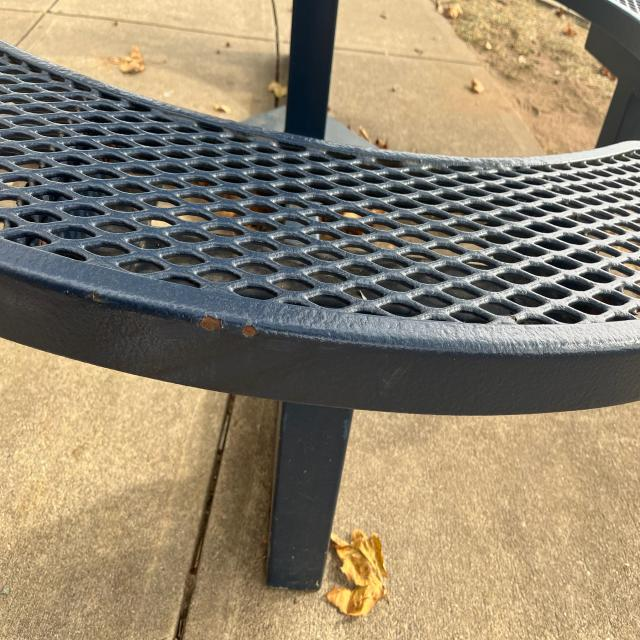Filiform Corrosion: (201, 316, 223, 331), (242, 324, 258, 338)
